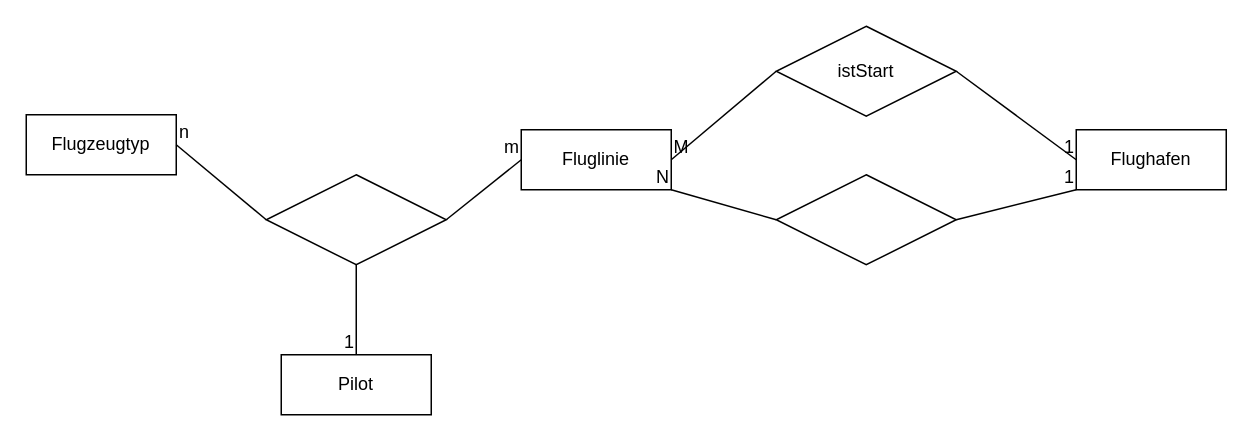
Some shapes in this 1253 by 441 pixel diagram are drawn without their labels. The shapes that lost their labels are listed below. From the top down, each one's centre as x and y in pixels, then its label:
(355,219): wird eingesetzt
(865,219): istZiel
